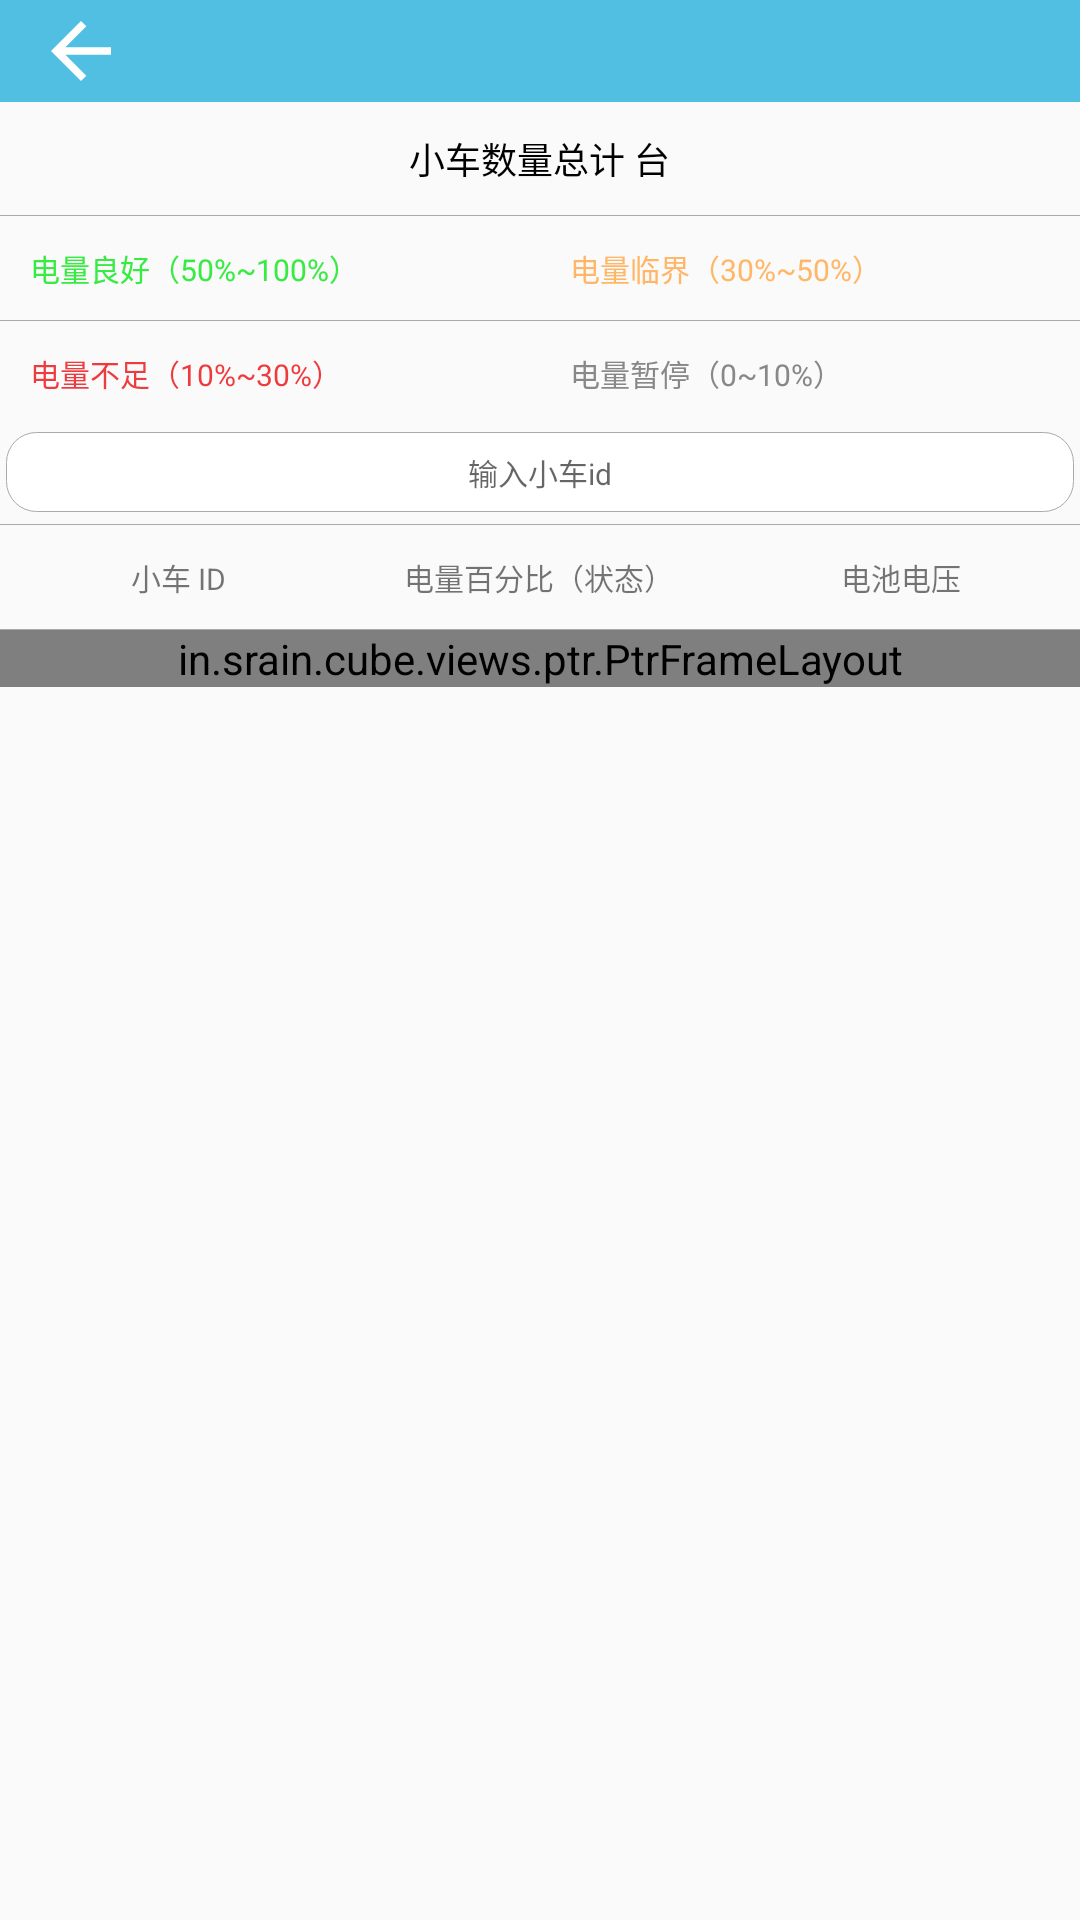

Named icons in this screenshot (1080 × 1920) and their bounding boxes, [x1, y1, x2, y2]:
back arrow: [51, 21, 111, 81]
